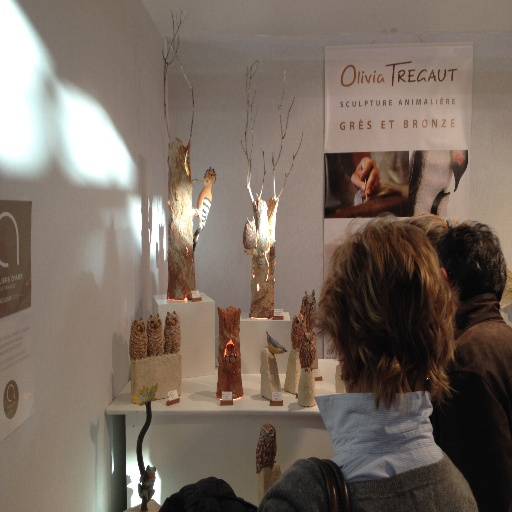hand: (347, 153, 380, 198)
